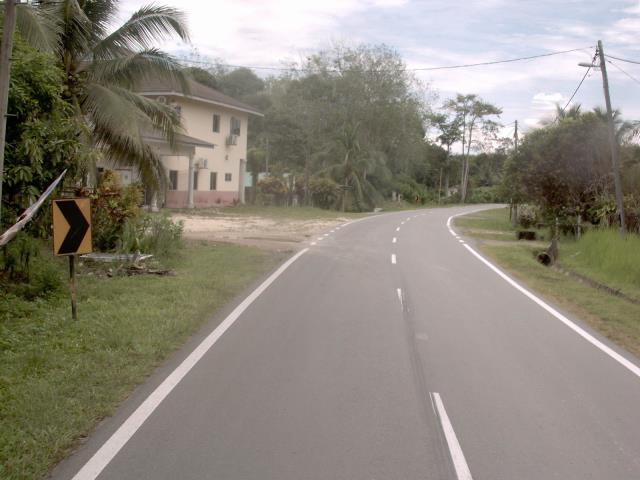traffic_sign: (46, 191, 98, 266)
